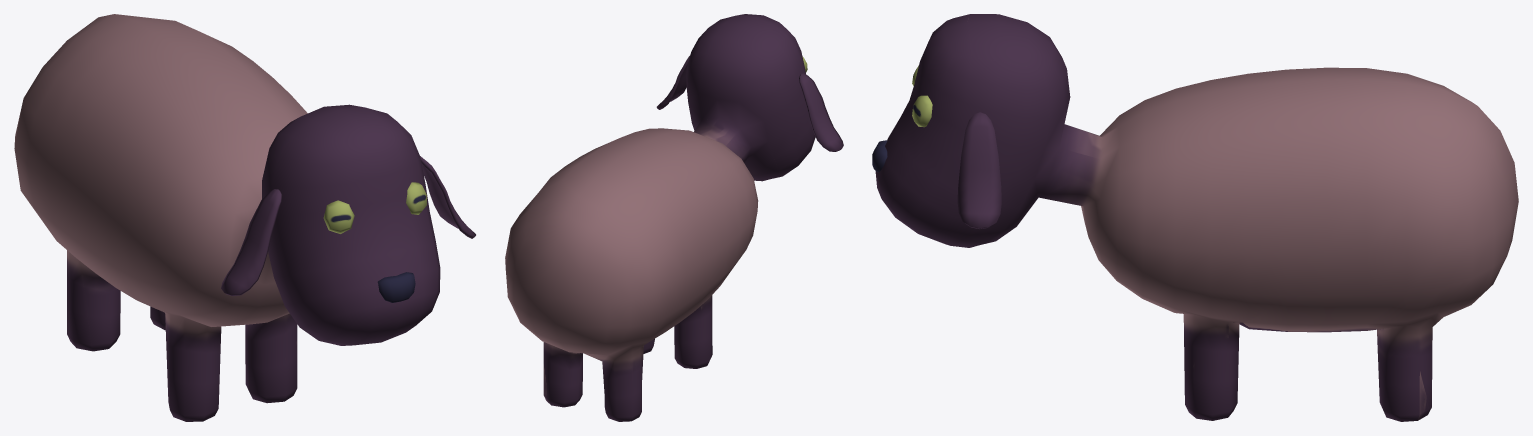
File: geschorenes Schaf.fbx
The picture shows the model from 3 angles, left to right: view 1: azimuth 30°, elevation 25°; view 2: azimuth 150°, elevation 25°; view 3: azimuth 270°, elevation 25°; orthographic projection. The views are drawn at different scales.
Visible parts, largest first — view 1: Cube.003; view 2: Cube.003; view 3: Cube.003.
Boxes of the visible parts, x1,y1,x2,y2 form: Cube.003: (14,14,475,421); Cube.003: (505,14,843,421); Cube.003: (872,14,1518,421).
Size of the model in its own units: 51.15 by 73.49 by 115.
